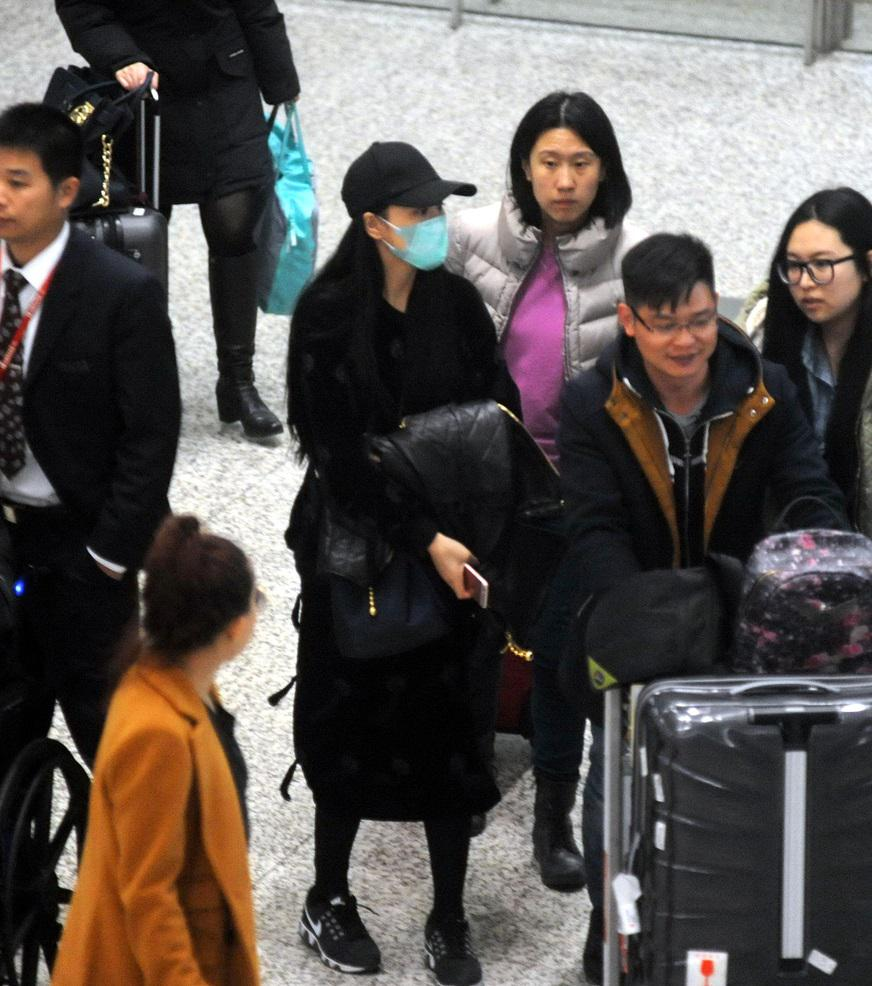NONE: (533, 140, 605, 227), (643, 293, 712, 372), (224, 575, 270, 670), (787, 243, 844, 316), (1, 158, 54, 236)
OK: (396, 190, 453, 273)
